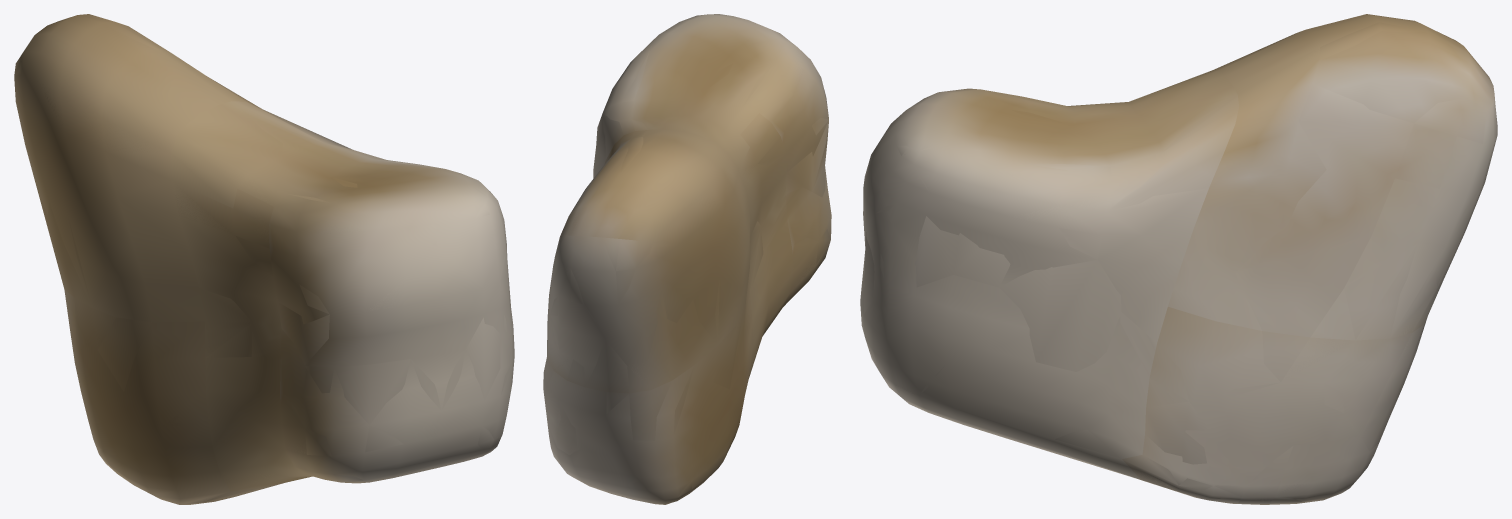
Rendered from L tarsi quartum.fbx.
The picture shows the model from 3 angles, left to right: view 1: azimuth 30°, elevation 25°; view 2: azimuth 150°, elevation 25°; view 3: azimuth 270°, elevation 25°; orthographic projection. The views are drawn at different scales.
Parts seen in each view (by area): view 1: L tarsi quartum, L tarsi quartum low; view 2: L tarsi quartum, L tarsi quartum low; view 3: L tarsi quartum, L tarsi quartum low.
Boxes of the visible parts, x1,y1,x2,y2 form: L tarsi quartum: (14, 14, 514, 504); L tarsi quartum low: (14, 15, 511, 503); L tarsi quartum: (543, 14, 831, 504); L tarsi quartum low: (547, 16, 830, 500); L tarsi quartum: (860, 14, 1497, 504); L tarsi quartum low: (861, 22, 1496, 503).
Bounding box in the file's own units: 1.44 × 2.19 × 2.91.
